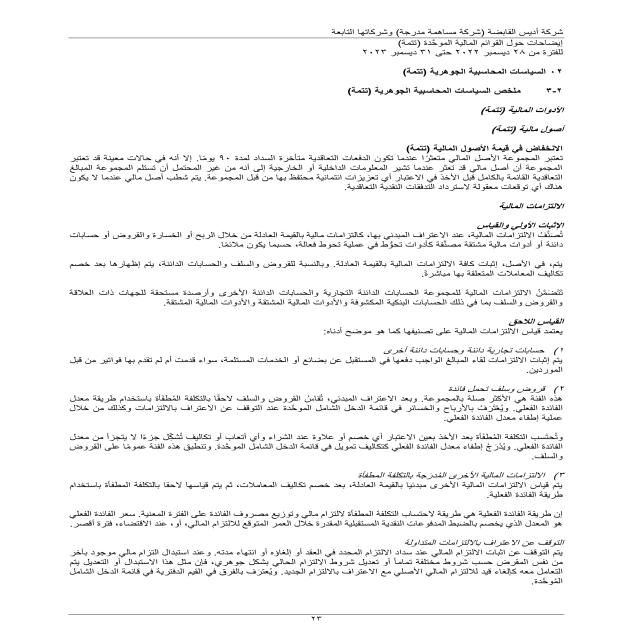notes: (396, 39, 566, 48)
text: (39, 80, 570, 592)
